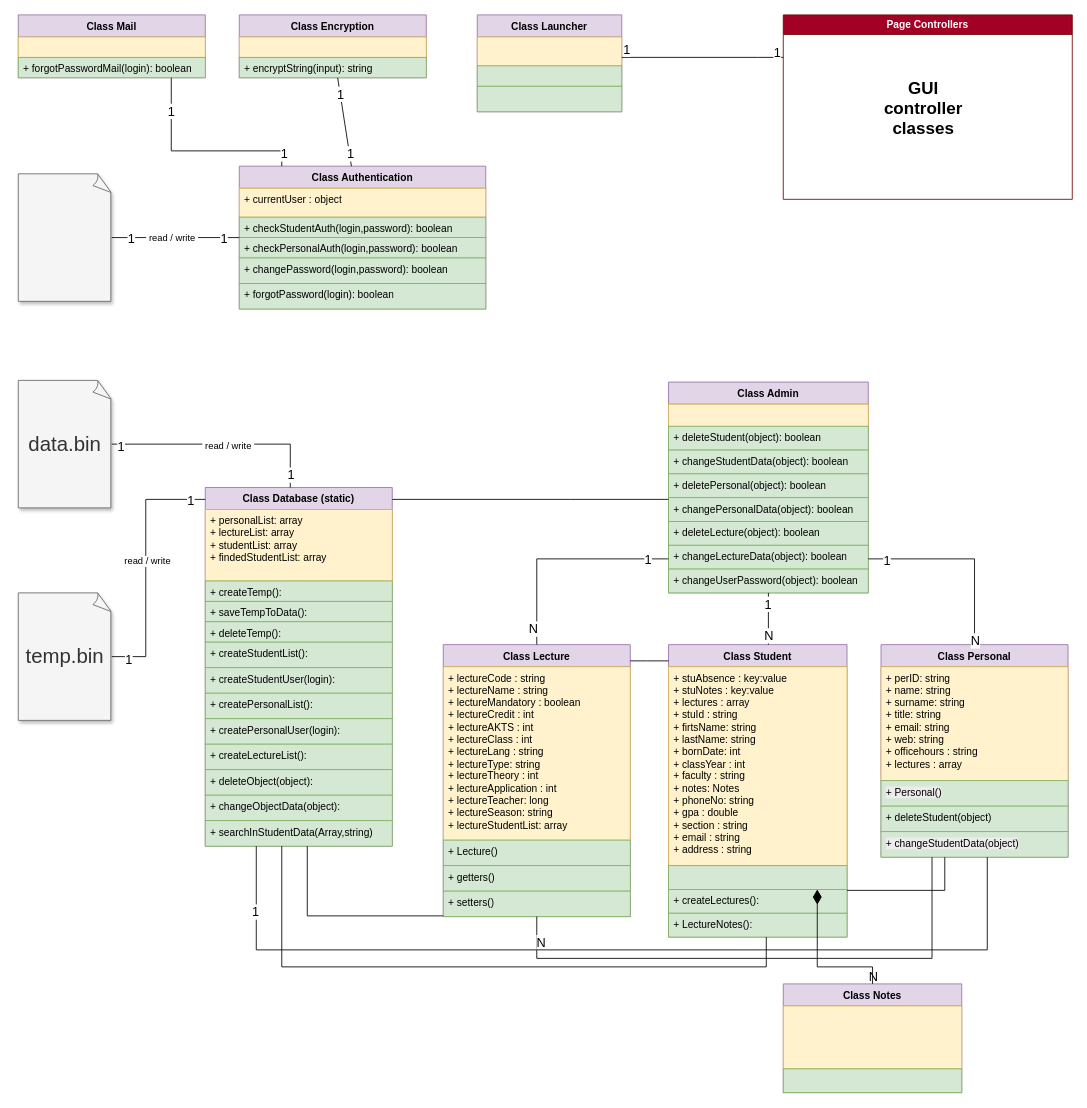
This 1087x1108 diagram has some shape labels left out. The shapes that lost their labels are listed below. From the top down, each one's centre as x and y in pixels, then its label:
At pixel 549 75: "+ main()".
At pixel 65 238: "auth.bin".
At pixel 757 877: "+ Student(string) :".
At pixel 872 1037: "+ fall1 : int + fall2: int + spring1: int + spring2: int".
